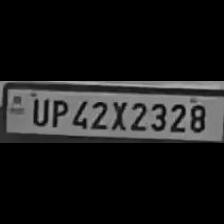2: (127, 98, 148, 132), (88, 97, 108, 129), (166, 101, 186, 133)
3: (147, 100, 167, 132)
4: (68, 97, 88, 128)
8: (186, 101, 208, 133)
P: (46, 96, 68, 128)
U: (28, 96, 48, 127)
X: (108, 98, 128, 130)
